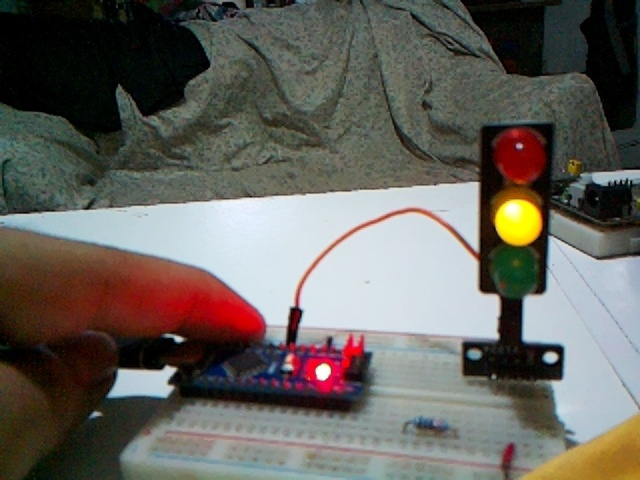traffic_light_yellow: (479, 122, 553, 298)
